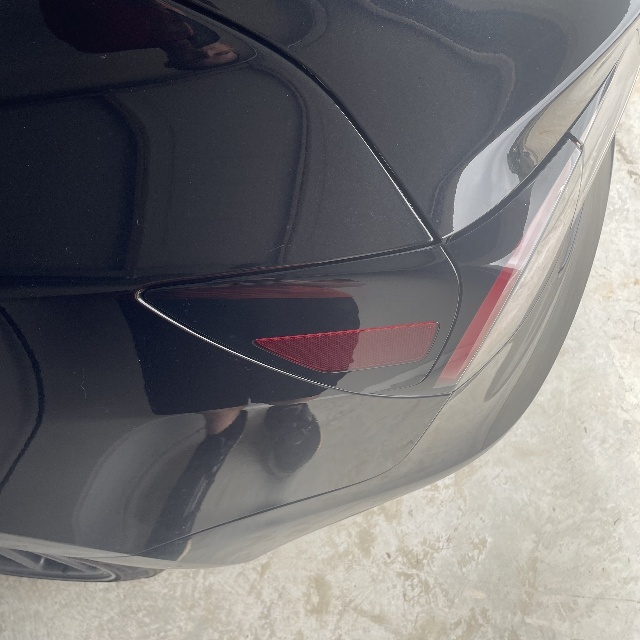reflector: (254, 322, 439, 373)
